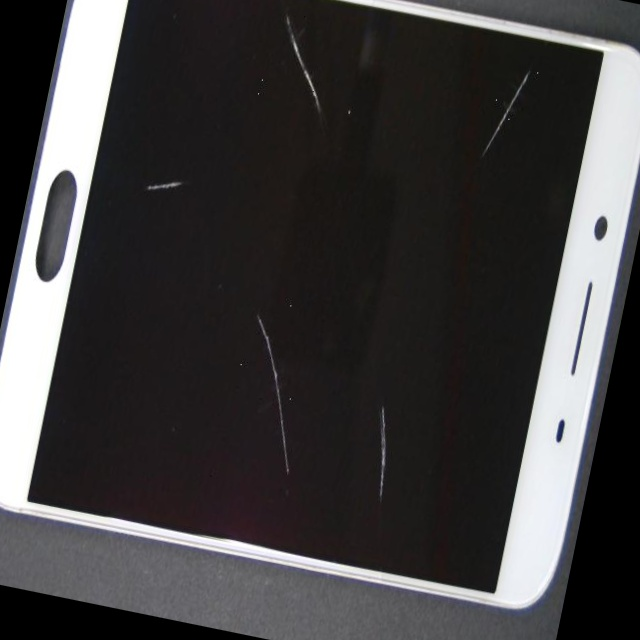scratch: (118, 101, 615, 640), (112, 85, 417, 503), (303, 0, 640, 172), (50, 51, 214, 368), (224, 37, 448, 142)
